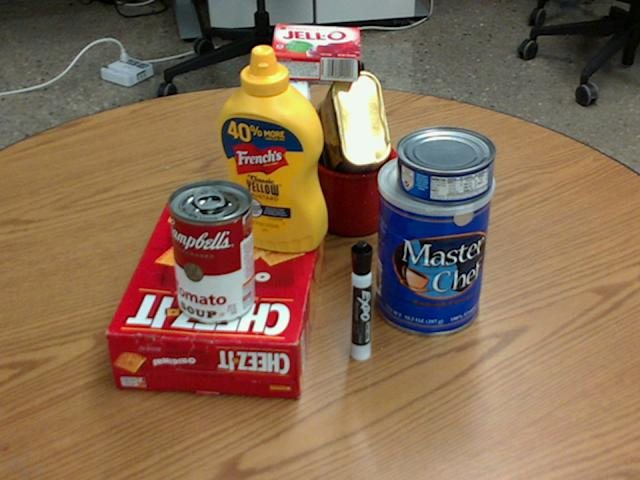cracker_box: (106, 201, 325, 398)
gelatin_box: (268, 25, 360, 82)
large_marker: (350, 240, 372, 360)
master_chef_can: (373, 149, 493, 335)
mug: (312, 132, 414, 234)
mustard_bottle: (215, 45, 326, 250)
potted_meat_can: (315, 73, 390, 188)
sugar_box: (266, 57, 309, 246)
tomato_soup_can: (167, 179, 255, 323)
tuna_fish_can: (395, 126, 495, 203)
